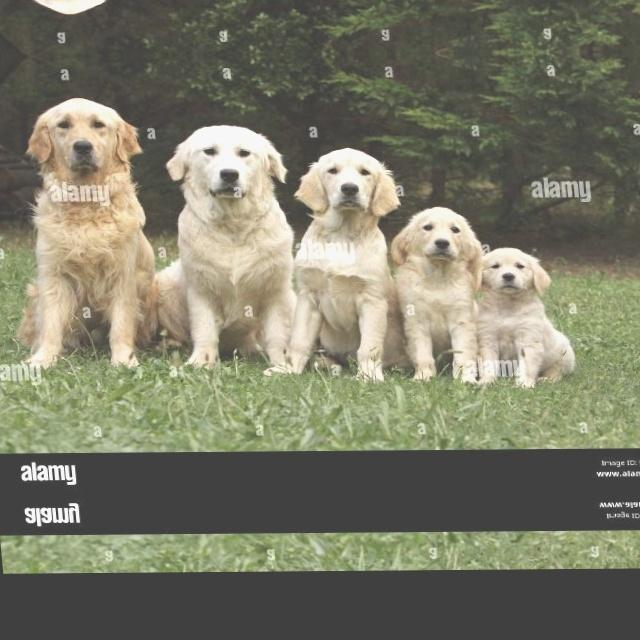dog: (1, 80, 166, 390), (144, 98, 316, 374), (286, 118, 417, 406), (480, 218, 584, 412), (401, 194, 494, 398), (0, 0, 132, 31), (133, 0, 283, 9), (511, 568, 599, 570)
